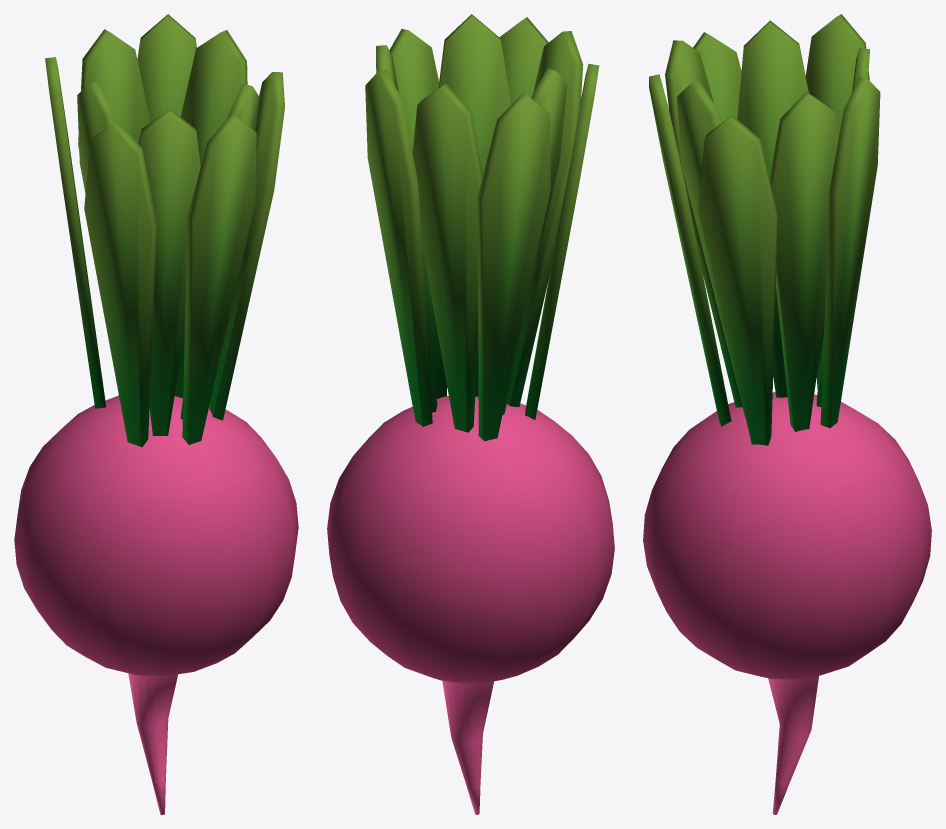
Rendered from beterraba.fbx.
3 renders of one model, left to right at view 1: azimuth 30°, elevation 25°; view 2: azimuth 150°, elevation 25°; view 3: azimuth 270°, elevation 25°, orthographic.
Parts seen in each view (by area): view 1: Sphere; view 2: Sphere; view 3: Sphere.
Part boxes in pixels (bbox=[...]): Sphere: bbox=[14, 14, 298, 814]; Sphere: bbox=[327, 14, 614, 814]; Sphere: bbox=[643, 14, 931, 814].
Bounding box in the file's own units: 12.91 × 37.49 × 12.9.
Materials: 2 (2 with a texture image).
